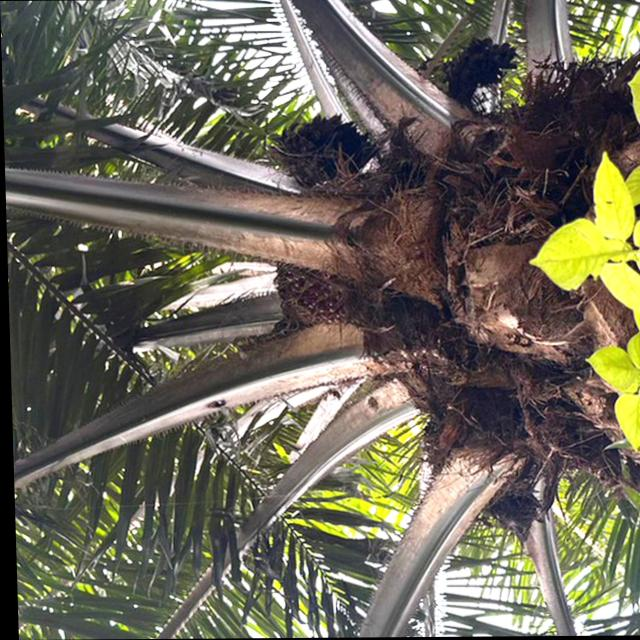ripe: (259, 253, 375, 343)
